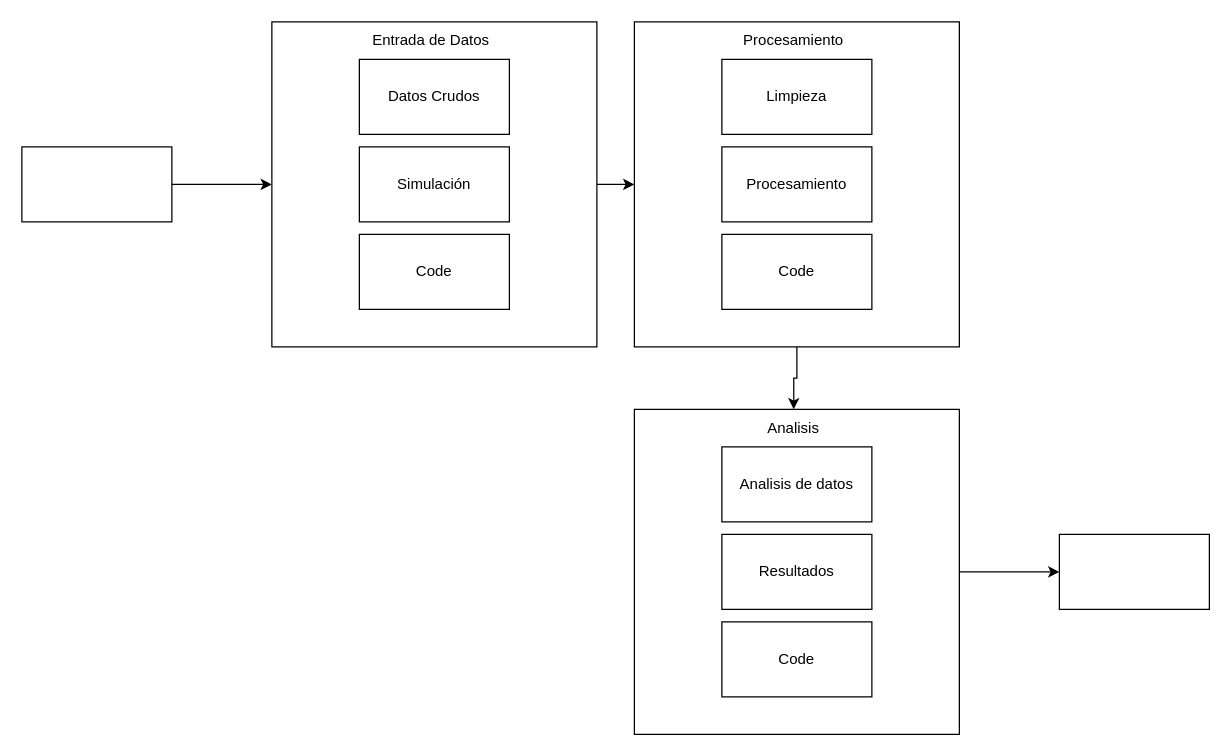
Image size: 1231x756. Some labels were removed from this diagram. The box of each missing label's shape, as (x1, y1, x2, y2) in pixels:
Observación: (21, 146, 172, 222)
Salida: (1058, 533, 1209, 609)
